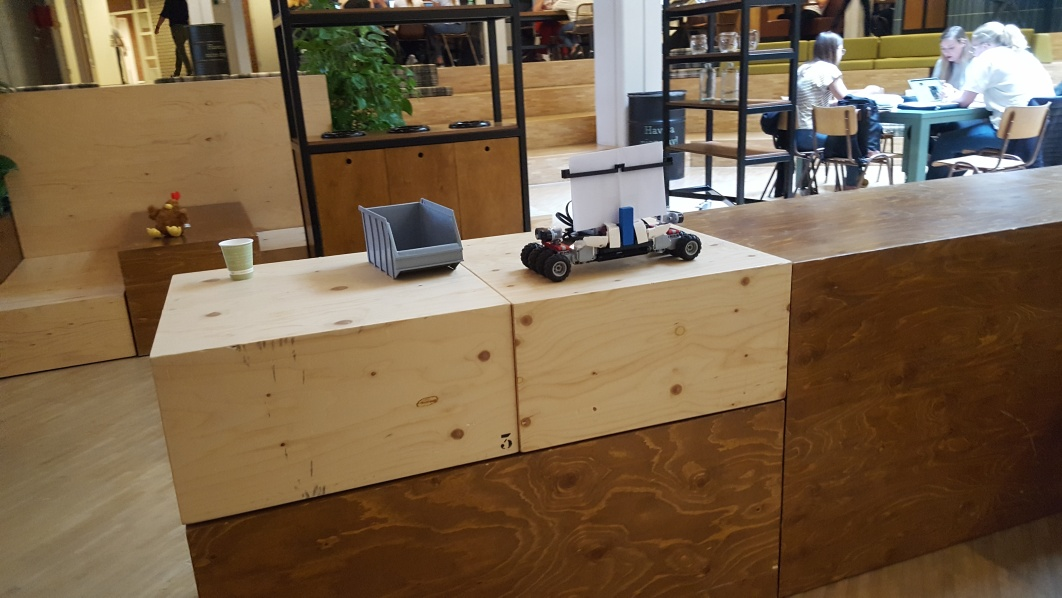beam: (615, 204, 636, 249)
chicken: (142, 190, 193, 241)
cup: (217, 234, 255, 282)
tray: (355, 196, 468, 278)
